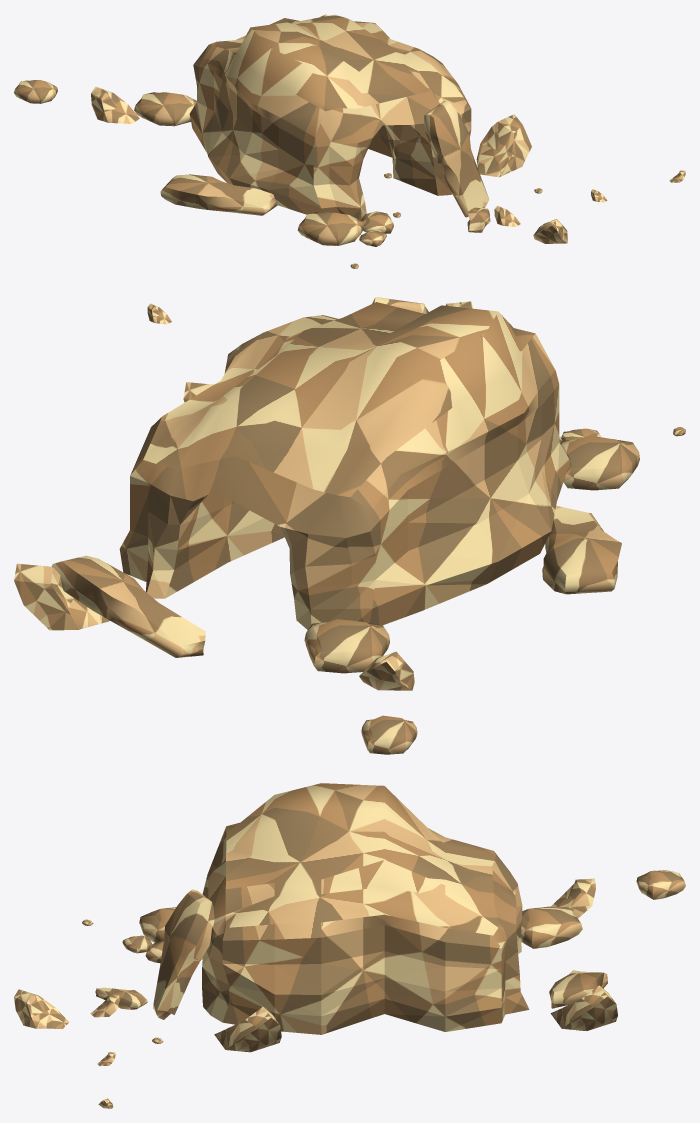
The model's file is cave.obj.
3 renders of one model, top to bottom at view 1: azimuth 30°, elevation 25°; view 2: azimuth 150°, elevation 25°; view 3: azimuth 270°, elevation 25°, orthographic. The views are drawn at different scales.
Visible parts, largest first — view 1: Box012, Box013, Box008, Box007, Box006, Box014, Box018, Box017, Box005, Box011, Box002; view 2: Box012, Box016, Box008, Box014, Box006, Box015, Box017, Box018; view 3: Box012, Box013, Box014, Box007, Box015, Box005, Box016, Box017, Box018, Box006, Box002.
Part boxes in pixels (box(x1,y1,x2,y2)): Box012: box(189, 14, 471, 220); Box013: box(424, 100, 489, 217); Box008: box(160, 174, 277, 215); Box007: box(476, 114, 531, 177); Box006: box(297, 212, 364, 245); Box014: box(134, 92, 196, 126); Box018: box(91, 86, 139, 123); Box017: box(14, 80, 57, 103); Box005: box(533, 218, 567, 243); Box011: box(361, 211, 393, 233); Box002: box(467, 207, 490, 232); Box012: box(119, 302, 570, 629); Box016: box(52, 555, 205, 657); Box008: box(542, 505, 621, 594); Box014: box(304, 619, 389, 673); Box006: box(560, 436, 639, 490); Box015: box(14, 563, 109, 630); Box017: box(361, 715, 417, 754); Box018: box(359, 651, 414, 690); Box012: box(201, 783, 529, 1034); Box013: box(153, 889, 214, 1019); Box014: box(521, 906, 582, 948); Box007: box(214, 1007, 281, 1052); Box015: box(551, 985, 617, 1030); Box005: box(14, 989, 69, 1028); Box016: box(549, 970, 607, 1008); Box017: box(636, 870, 685, 899); Box018: box(551, 878, 595, 918); Box006: box(139, 907, 176, 942); Box002: box(95, 987, 147, 1009).
Bounding box in the file's own units: 167 × 55.28 × 205.
1 material, 1 textured.
